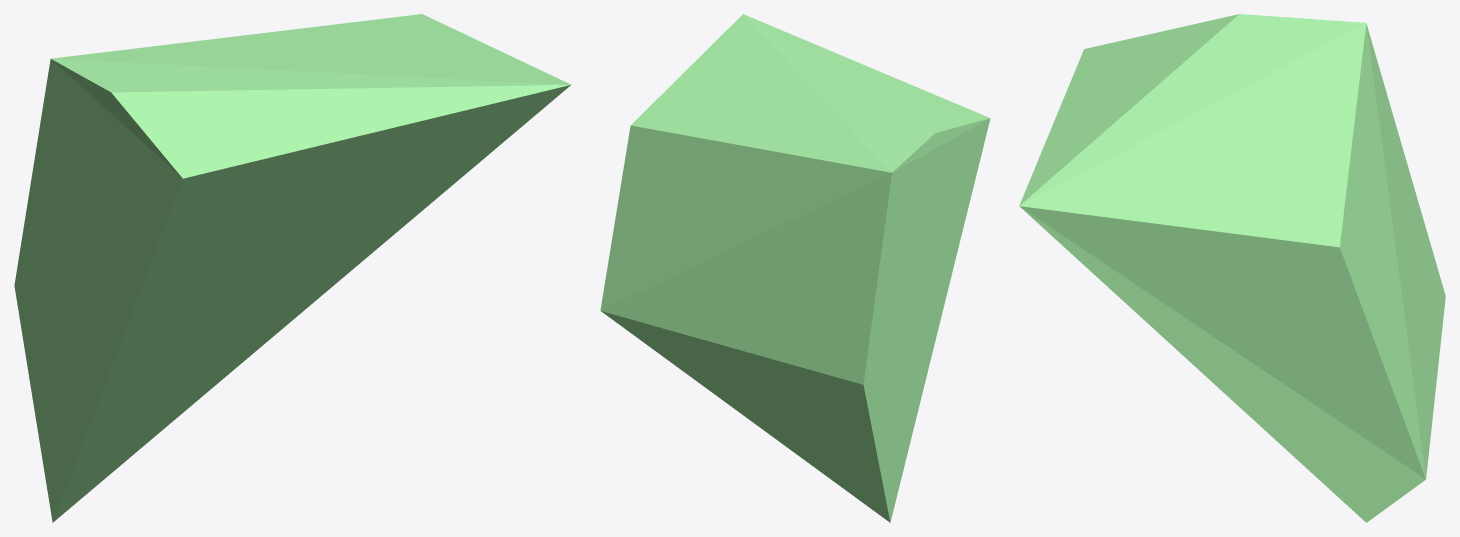
File: linkhou_LR4_R560_link7_respondable_coll_5.dae
The picture shows the model from 3 angles, left to right: view 1: azimuth 30°, elevation 25°; view 2: azimuth 150°, elevation 25°; view 3: azimuth 270°, elevation 25°; orthographic projection. The views are drawn at different scales.
Visible parts, largest first — view 1: Node_00000209DB3AA2F0; view 2: Node_00000209DB3AA2F0; view 3: Node_00000209DB3AA2F0.
Boxes of the visible parts, <box> form: Node_00000209DB3AA2F0: <box>14,14,571,522</box>; Node_00000209DB3AA2F0: <box>600,14,990,522</box>; Node_00000209DB3AA2F0: <box>1019,14,1445,522</box>.
Size of the model in its own units: 0.00801 by 0.0101 by 0.00768.
